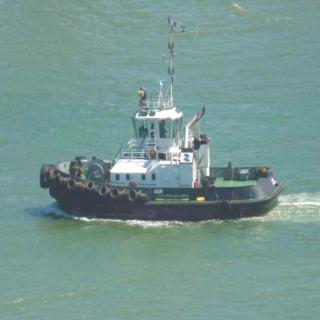Tug Boat: (45, 53, 291, 215)
